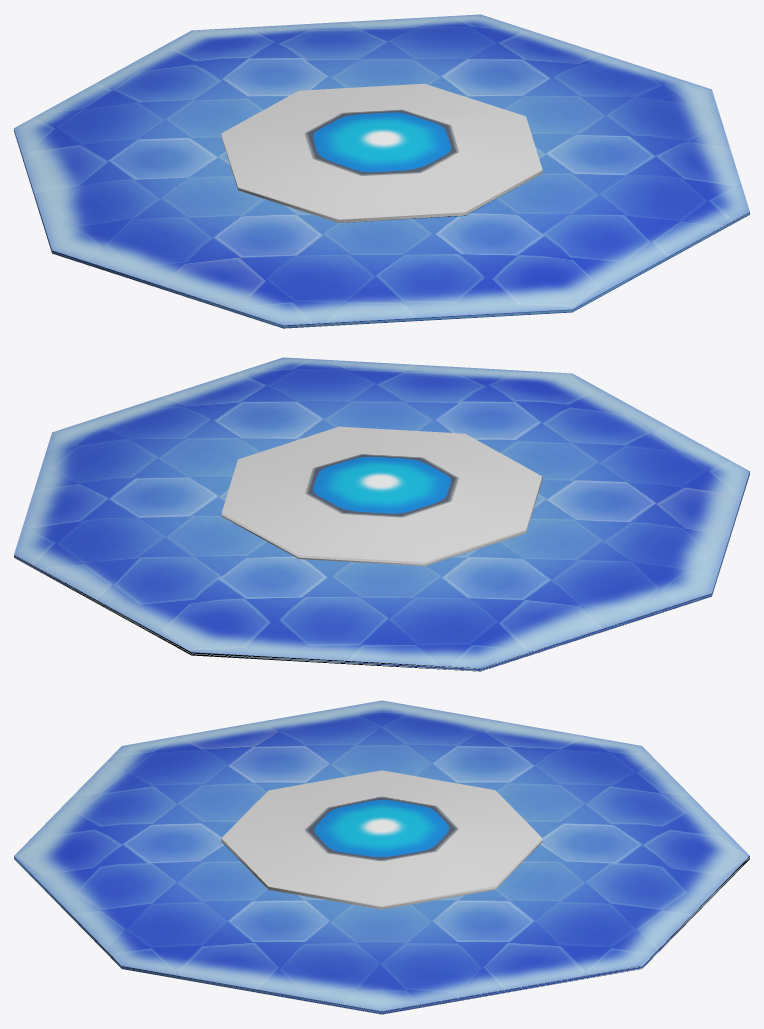
Rendered from Shield.FBX.
The picture shows the model from 3 angles, top to bottom: view 1: azimuth 30°, elevation 25°; view 2: azimuth 150°, elevation 25°; view 3: azimuth 270°, elevation 25°; orthographic projection. The views are drawn at different scales.
Parts seen in each view (by area): view 1: Cylinder002, Cylinder001; view 2: Cylinder002, Cylinder001, Cylinder003; view 3: Cylinder002, Cylinder001, Cylinder003.
Part boxes in pixels (x1=…): Cylinder002: x1=14, y1=14, x2=749, y2=328; Cylinder001: x1=221, y1=83, x2=542, y2=222; Cylinder002: x1=14, y1=357, x2=749, y2=671; Cylinder001: x1=221, y1=426, x2=542, y2=565; Cylinder003: x1=221, y1=478, x2=542, y2=565; Cylinder002: x1=14, y1=700, x2=749, y2=1014; Cylinder001: x1=221, y1=770, x2=542, y2=909; Cylinder003: x1=227, y1=839, x2=542, y2=908.
Bounding box in the file's own units: 21.5 × 2.6 × 21.5.
